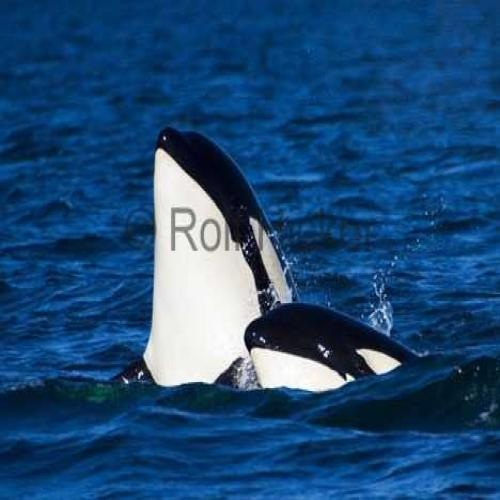killer_whale-endangered: (130, 107, 308, 408), (241, 280, 439, 424)
